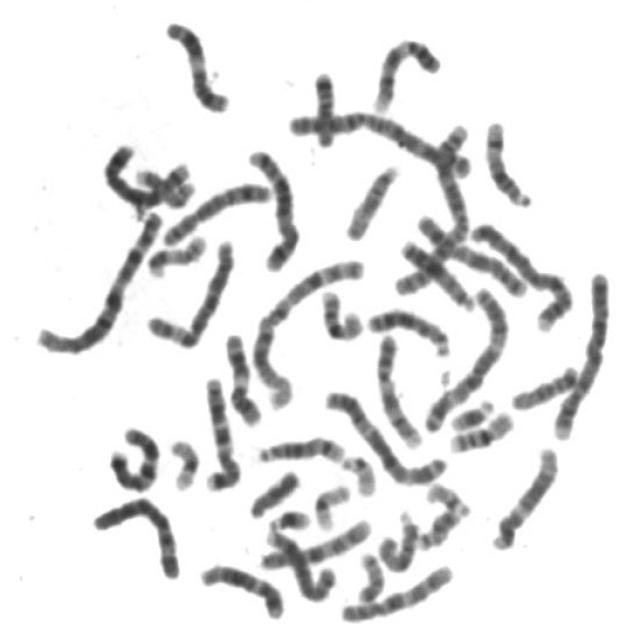A1: (29, 200, 168, 357), (249, 248, 370, 413)
A2: (389, 115, 474, 299), (282, 101, 477, 180)
A3: (419, 278, 512, 434), (319, 382, 453, 487)
B4: (466, 212, 579, 332), (546, 262, 616, 442)
B5: (241, 140, 305, 273), (97, 135, 200, 210)
C10: (334, 556, 460, 625), (255, 510, 377, 572)
C11: (159, 11, 235, 115), (219, 323, 267, 428)
C12: (487, 438, 564, 552), (194, 554, 289, 622)
C6: (141, 231, 240, 350), (87, 488, 186, 582)
C7: (198, 368, 245, 493), (104, 418, 165, 493)
C8: (157, 173, 276, 247), (261, 520, 340, 604)
C9: (370, 324, 427, 449), (366, 28, 447, 114)
D13: (395, 230, 481, 312), (363, 298, 456, 358)
D14: (479, 110, 538, 210), (252, 426, 351, 466)
D15: (339, 155, 405, 242), (373, 502, 424, 573)
E16: (444, 402, 520, 454), (315, 280, 367, 342)
E17: (143, 226, 212, 279), (130, 161, 198, 210)
E18: (506, 356, 584, 412), (308, 62, 342, 148)
F19: (309, 474, 354, 532), (165, 430, 205, 493)
F20: (412, 499, 469, 552), (352, 544, 390, 606)
G21: (444, 389, 498, 434), (264, 499, 316, 533)
G22: (421, 473, 475, 518), (337, 446, 381, 498)
X: (412, 206, 532, 298)
Y: (244, 461, 306, 519)
